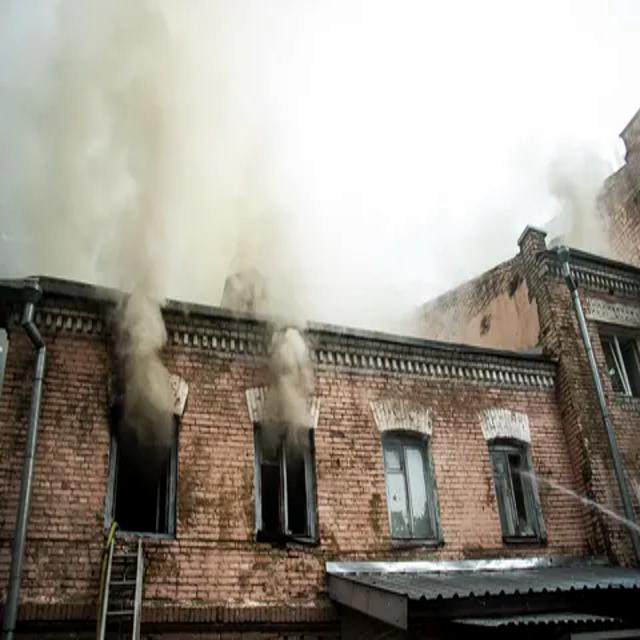no_helmet: (230, 158, 317, 453), (106, 121, 180, 453), (551, 111, 611, 266)
